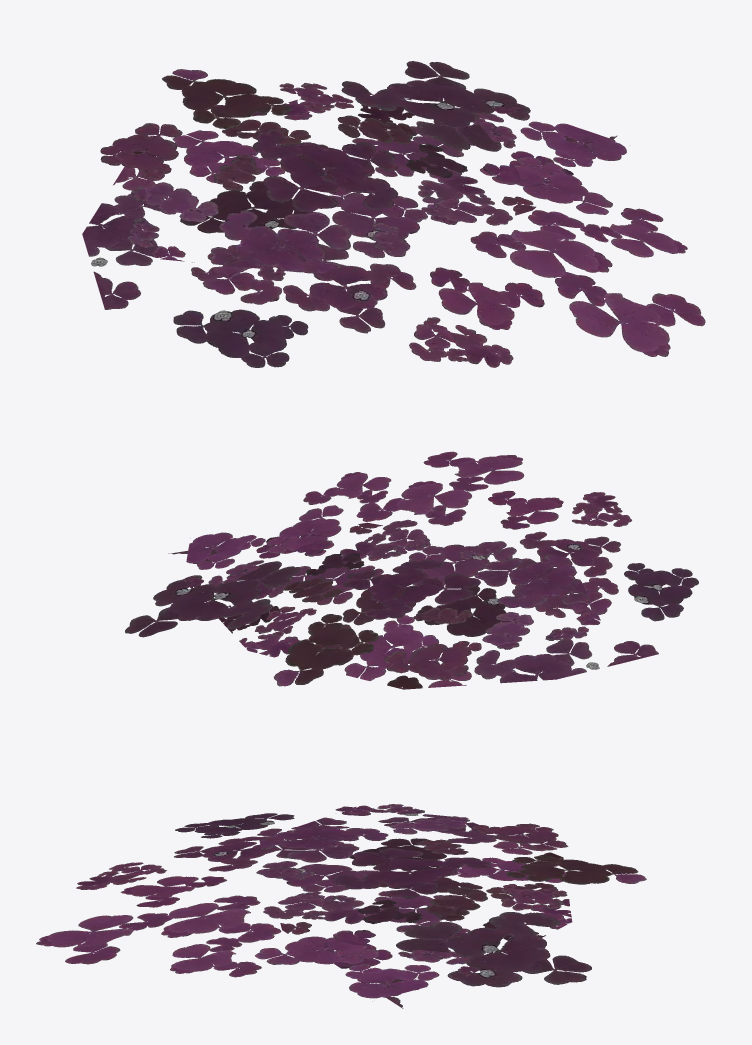
The picture shows the model from 3 angles, top to bottom: view 1: azimuth 30°, elevation 25°; view 2: azimuth 150°, elevation 25°; view 3: azimuth 270°, elevation 25°; orthographic projection. The views are drawn at different scales.
Parts seen in each view (by area): view 1: SM_GF_Sorrel_01_C_LOD0; view 2: SM_GF_Sorrel_01_C_LOD0; view 3: SM_GF_Sorrel_01_C_LOD0.
Boxes of the visible parts, left/top/right/bottom form: SM_GF_Sorrel_01_C_LOD0: left=82, top=61, right=705, bottom=367; SM_GF_Sorrel_01_C_LOD0: left=125, top=451, right=698, bottom=689; SM_GF_Sorrel_01_C_LOD0: left=36, top=804, right=646, bottom=1008.
Bounding box in the file's own units: 0.9699 × 0.0984 × 1.24.
Materials: 1 (1 with a texture image).
